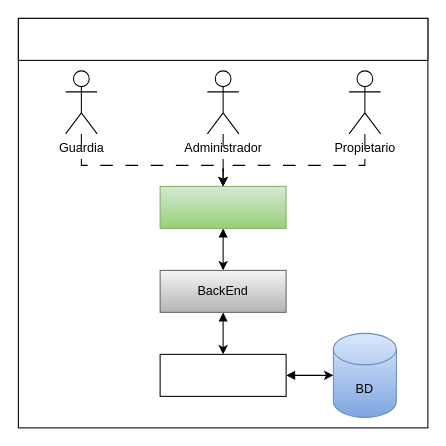
The diagram is 446 pixels wide and 446 high, and some of its shapes have lost their labels. Each missing label, with the centre of its shape:
"Interfaz Web" belongs at (x=222, y=206).
"Servicios del Sistema" belongs at (x=222, y=374).
"VISTA LÓGICA" belongs at (x=222, y=38).
